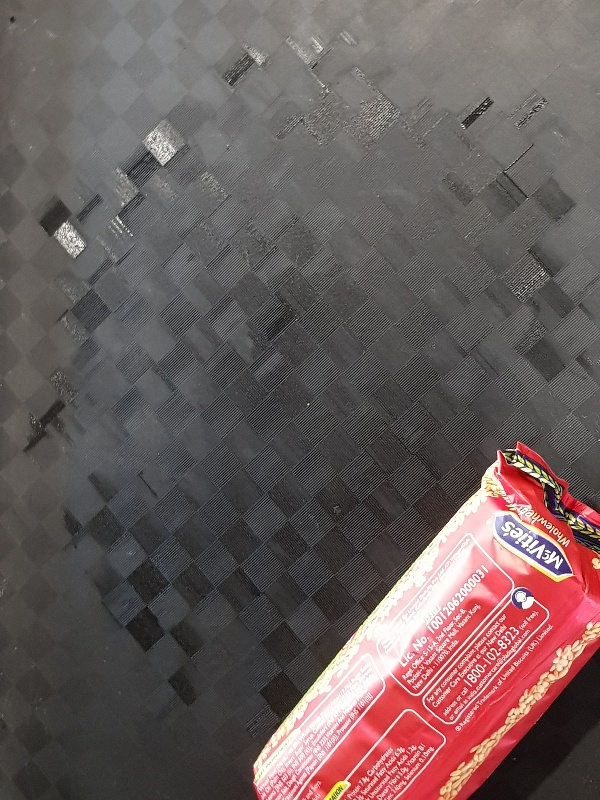McVitie's Wholewheat Marie: (249, 441, 600, 799)
